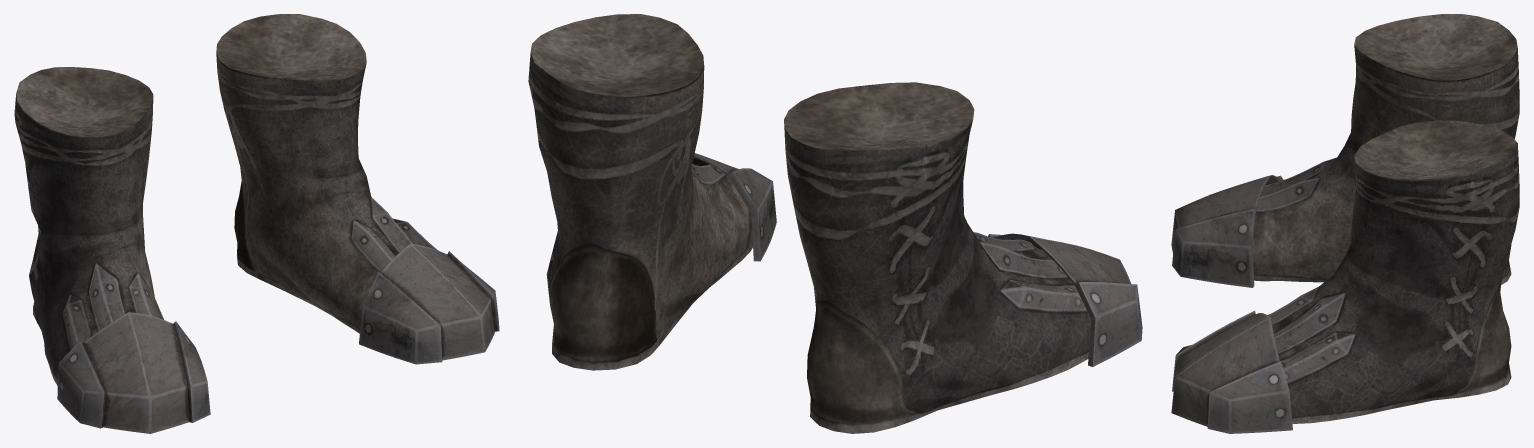
File: sk_dwarf_iron_boots_med_a1.fbx
3 renders of one model, left to right at view 1: azimuth 30°, elevation 25°; view 2: azimuth 150°, elevation 25°; view 3: azimuth 270°, elevation 25°, orthographic. The views are drawn at different scales.
Visible parts, largest first — view 1: sk_dwarf_iron_boots_med_a1; view 2: sk_dwarf_iron_boots_med_a1; view 3: sk_dwarf_iron_boots_med_a1.
Boxes of the visible parts, box(x1,y1,x2,y2) form: sk_dwarf_iron_boots_med_a1: box(14, 14, 499, 433); sk_dwarf_iron_boots_med_a1: box(528, 14, 1142, 433); sk_dwarf_iron_boots_med_a1: box(1171, 14, 1519, 433).
Bounding box in the file's own units: 0.5675 × 0.396 × 0.2971.
Materials: 1 (1 with a texture image).
